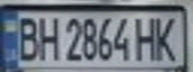2: (60, 14, 81, 62)
4: (112, 14, 133, 61)
6: (96, 14, 115, 62)
8: (78, 15, 100, 62)
B: (9, 14, 42, 62)
H: (133, 14, 160, 62), (33, 14, 60, 62)
K: (151, 14, 181, 62)
